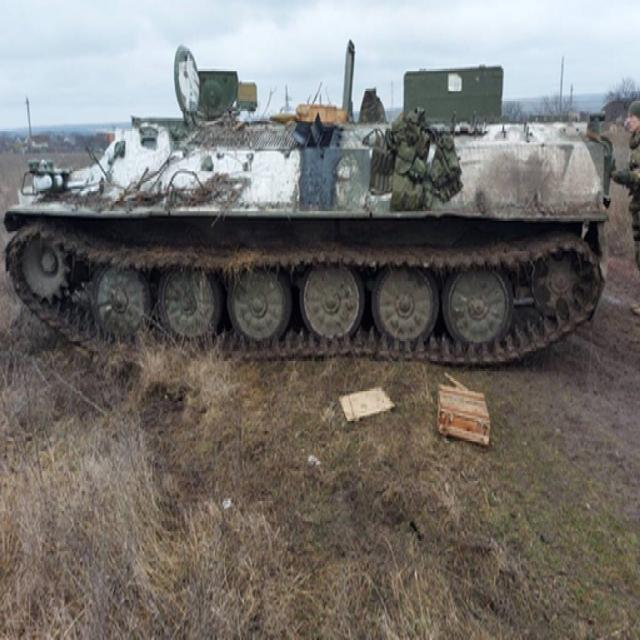APC-IFV: (4, 64, 625, 418)
